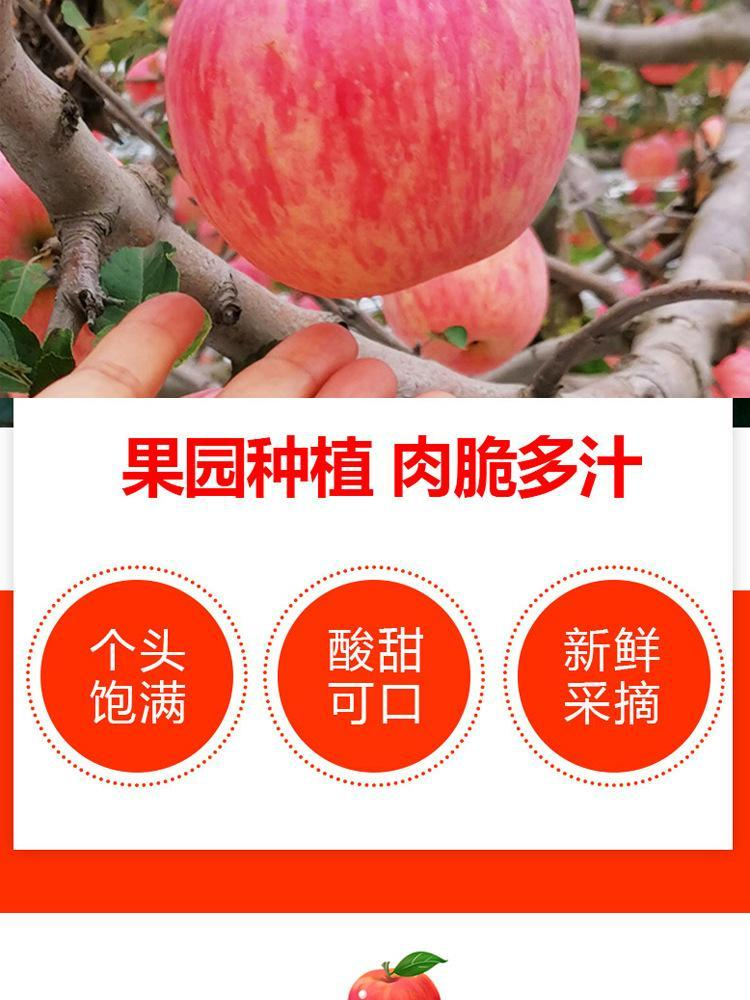apple: (168, 1, 579, 308), (380, 227, 546, 369)
